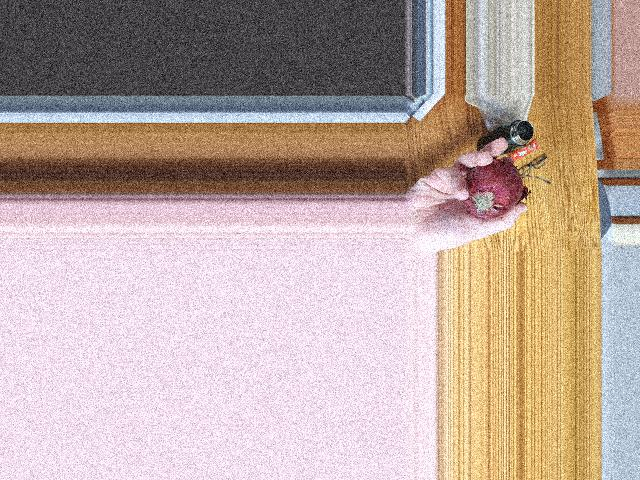onion: (456, 160, 522, 219)
